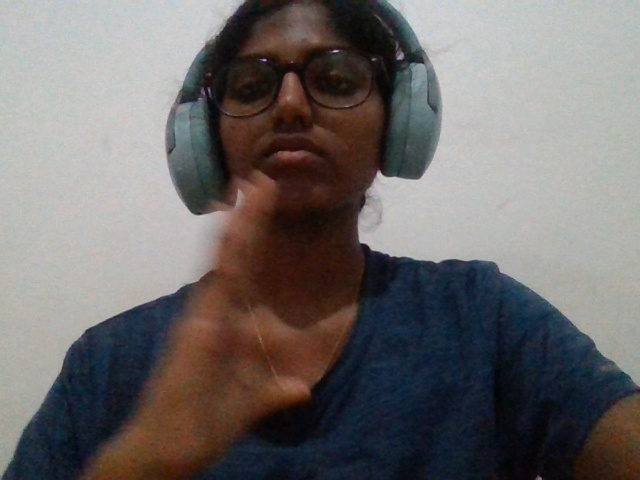Fine: (107, 135, 344, 466)
